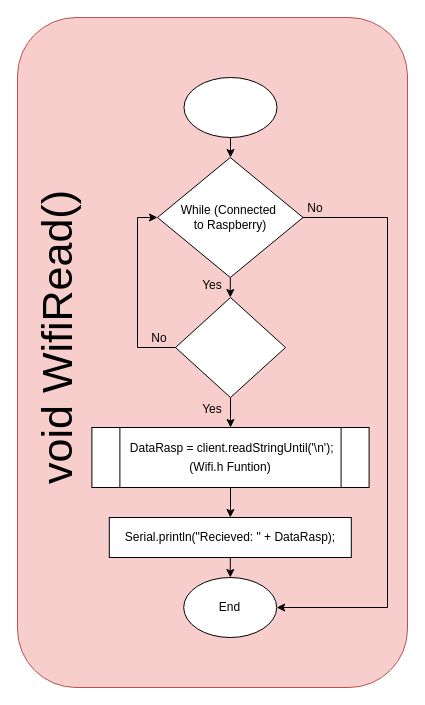
This 425x705 diagram has some shape labels left out. Here are the shapes that lost their labels. From the top down, the centre of each, then its label:
(230,107): Start
(230,347): If (data avalable)
